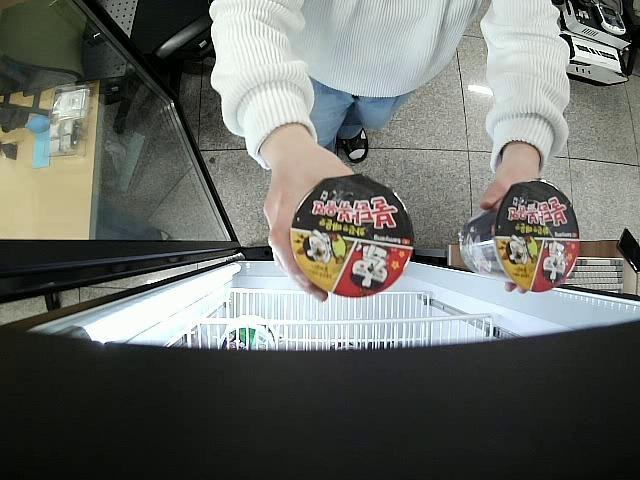08_buldak_S: (290, 174, 416, 296), (459, 178, 580, 290)
